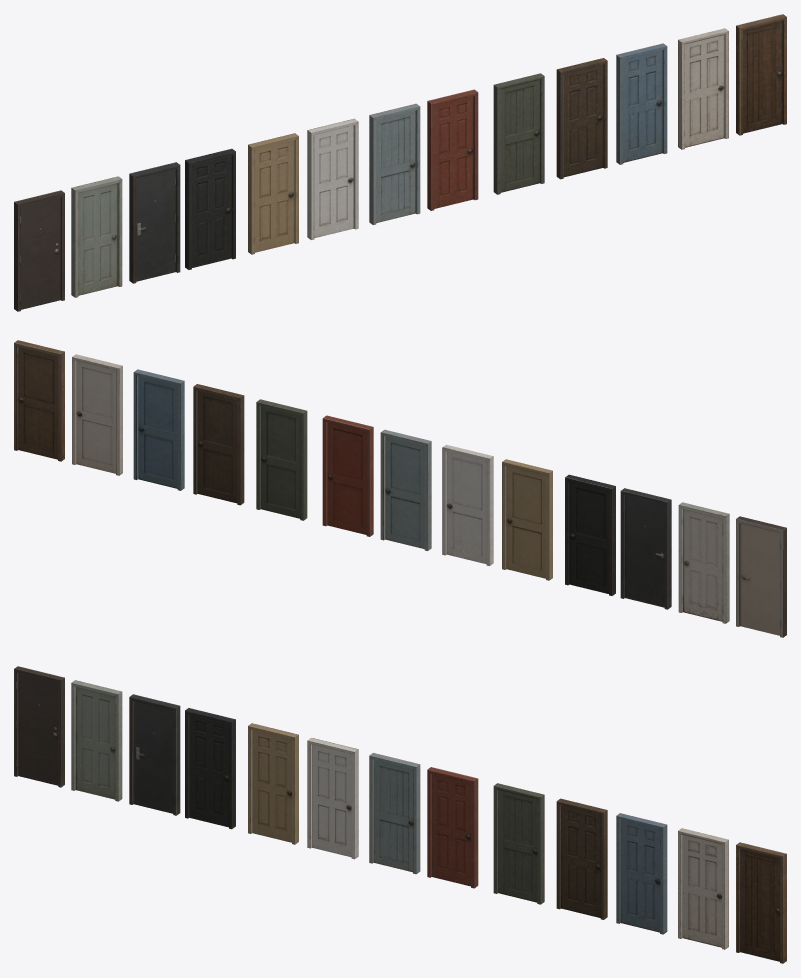
Rendered from PSX Doors Pack.fbx.
The picture shows the model from 3 angles, top to bottom: view 1: azimuth 30°, elevation 25°; view 2: azimuth 150°, elevation 25°; view 3: azimuth 330°, elevation 25°; orthographic projection.
Parts seen in each view (by area): view 1: Door#2, Door#8, Door#9, Door#10, Door#11, Door#3, Door#6, Door#7, Door#12, Door#1, Door#13, Door#5 (+1 smaller); view 2: Door#2, Door#8, Door#9, Door#10, Door#11, Door#3, Door#6, Door#7, Door#12, Door#1, Door#13, Door#5 (+1 smaller); view 3: Door#2, Door#9, Door#10, Door#6, Door#8, Door#11, Door#3, Door#7, Door#12, Door#1, Door#13, Door#5 (+1 smaller).
Part boxes in pixels (x1,y1,x2,y2): Door#2: (71,176,122,297); Door#8: (427,89,478,210); Door#9: (493,73,544,194); Door#10: (556,58,607,179); Door#11: (616,43,667,164); Door#3: (129,162,180,283); Door#6: (307,118,358,239); Door#7: (369,103,420,224); Door#12: (678,28,728,149); Door#1: (14,190,64,311); Door#13: (736,14,786,135); Door#5: (248,133,298,254); Door#2: (678,502,729,623); Door#8: (322,415,373,536); Door#9: (256,399,307,520); Door#10: (193,384,244,505); Door#11: (133,369,184,490); Door#3: (620,488,671,609); Door#6: (442,444,493,565); Door#7: (380,429,431,550); Door#12: (72,354,122,475); Door#1: (736,516,786,637); Door#13: (14,340,64,461); Door#5: (502,459,552,580); Door#2: (71,680,122,801); Door#9: (493,783,544,904); Door#10: (556,798,607,919); Door#6: (307,738,358,859); Door#8: (427,767,478,888); Door#11: (616,813,667,934); Door#3: (129,694,180,815); Door#7: (369,753,420,874); Door#12: (678,828,728,949); Door#1: (14,666,64,787); Door#13: (736,842,786,963); Door#5: (248,723,298,844).
Bounding box in the file's own units: 3976 × 530 × 34.68.
1 material, 1 textured.
